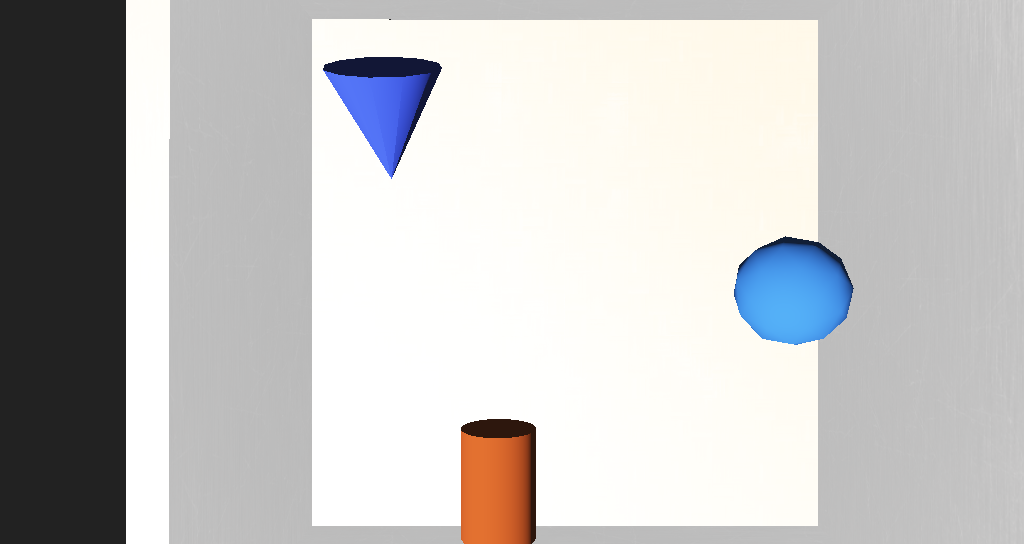cone: (441, 332, 488, 384)
cylinder: (357, 172, 438, 239)
sphere: (600, 255, 667, 298)
